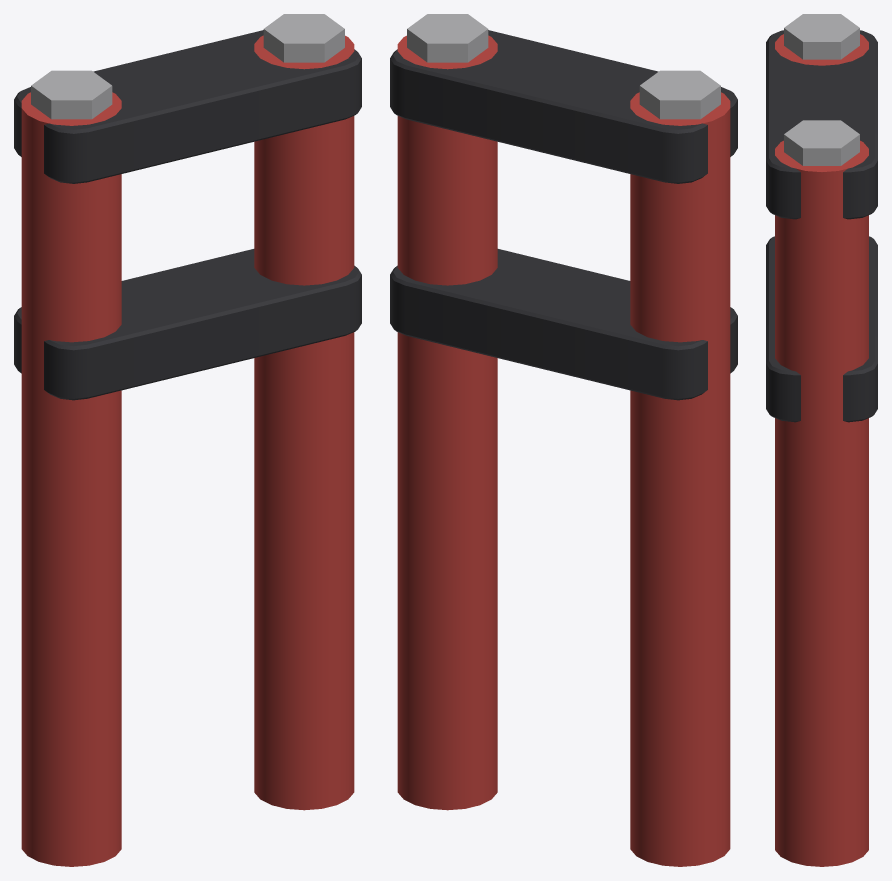
The model's file is mx_works_fork_upper.glb.
3 renders of one model, left to right at view 1: azimuth 30°, elevation 25°; view 2: azimuth 150°, elevation 25°; view 3: azimuth 270°, elevation 25°, orthographic. The views are drawn at different scales.
Parts seen in each view (by area): view 1: lod0; view 2: lod0; view 3: lod0.
Part boxes in pixels (bbox=[...]): lod0: bbox=[14, 14, 361, 866]; lod0: bbox=[390, 14, 737, 866]; lod0: bbox=[766, 14, 877, 866].
Size of what is drawn, in the model's own units: 0.248 by 0.562 by 0.08.
